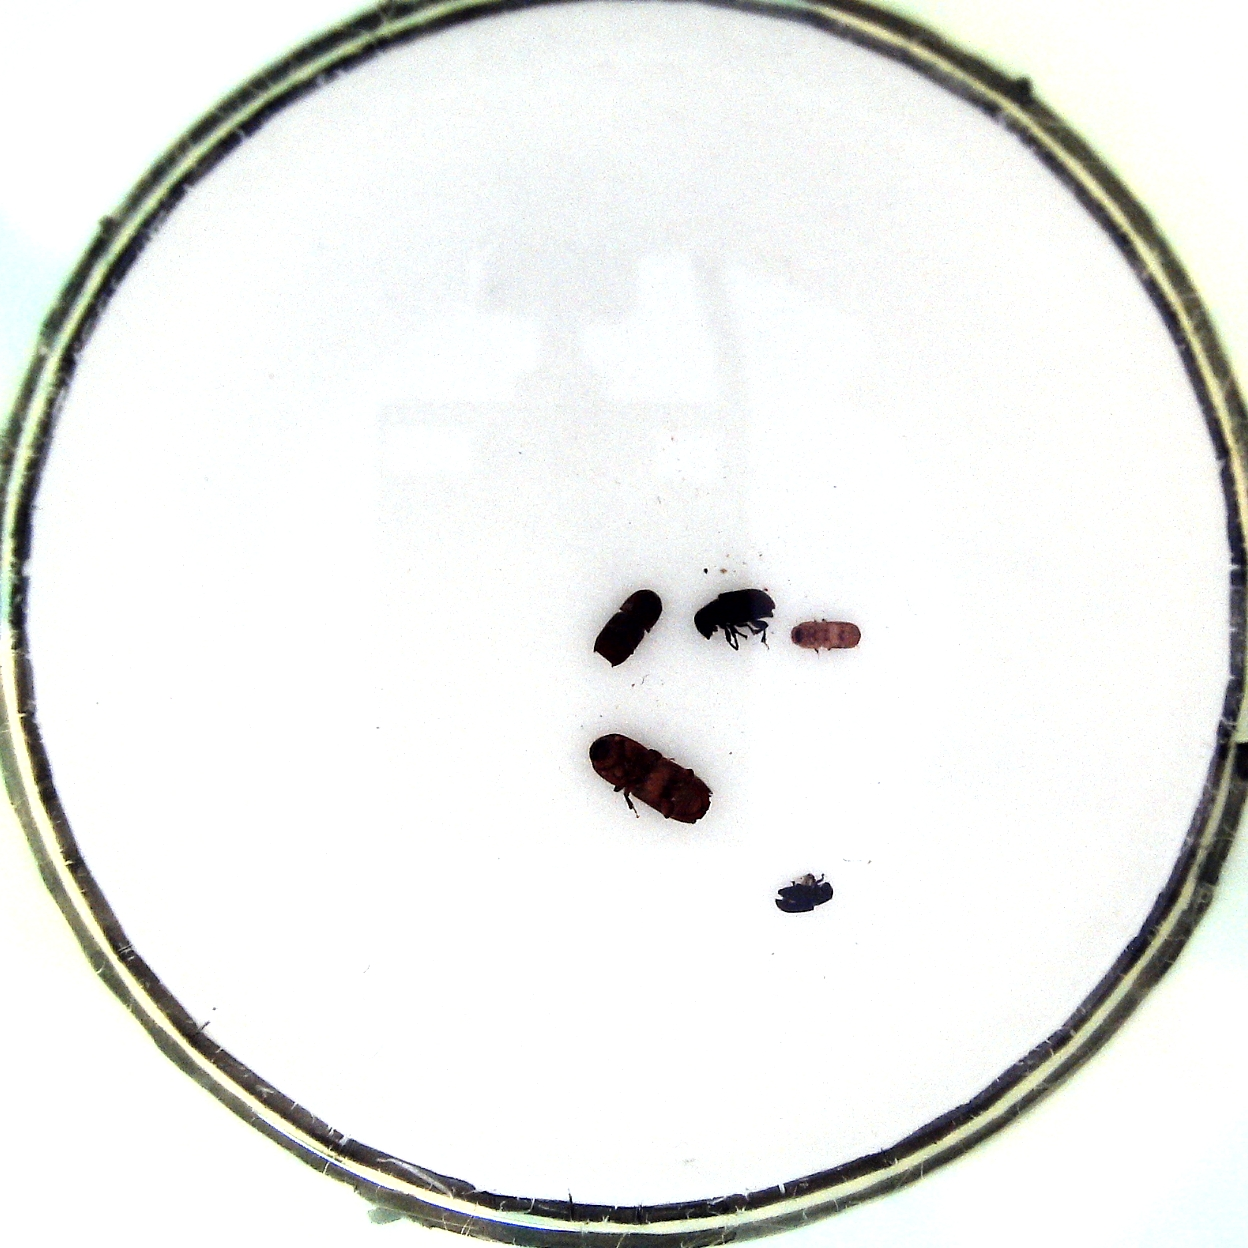Leconte: (582, 730, 717, 822)
Linnaeus: (587, 584, 663, 677)
acuminatus: (782, 613, 864, 661)
armandi: (691, 586, 779, 653)
coleoptera: (773, 866, 841, 917)
